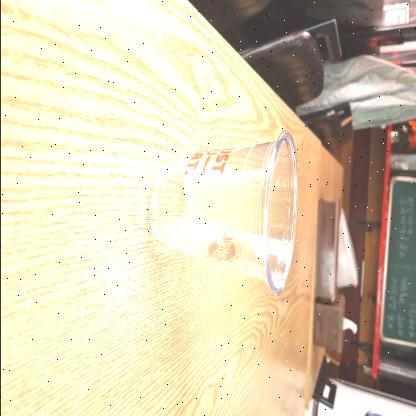Others: (141, 125, 299, 299)
